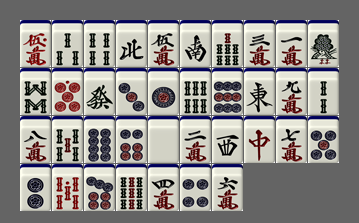0m: (20, 20, 51, 67)
0p: (52, 68, 83, 115)
0s: (52, 164, 83, 211)
1m: (276, 20, 307, 67)
1p: (148, 68, 179, 115)
1s: (308, 20, 339, 67)
1z: (244, 68, 275, 115)
2m: (180, 116, 211, 163)
2p: (20, 164, 51, 211)
2s: (308, 68, 339, 115)
2z: (180, 20, 211, 67)
3m: (244, 20, 275, 67)
3p: (116, 68, 147, 115)
3s: (52, 20, 83, 67)
3z: (212, 116, 243, 163)
4m: (148, 164, 179, 211)
4p: (180, 164, 211, 211)
4s: (84, 20, 115, 67)
4z: (116, 20, 147, 67)
5m: (148, 20, 179, 67)
5p: (308, 116, 339, 163)
5s: (52, 116, 83, 163)
5z: (148, 116, 179, 163)
6m: (212, 164, 243, 211)
6p: (116, 116, 147, 163)
6s: (180, 68, 211, 115)
6z: (84, 68, 115, 115)
7m: (276, 116, 307, 163)
7p: (84, 164, 115, 211)
7s: (212, 20, 243, 67)
7z: (244, 116, 275, 163)
8m: (20, 116, 51, 163)
8p: (84, 116, 115, 163)
8s: (20, 68, 51, 115)
9m: (276, 68, 307, 115)
9p: (212, 68, 243, 115)
9s: (116, 164, 147, 211)
